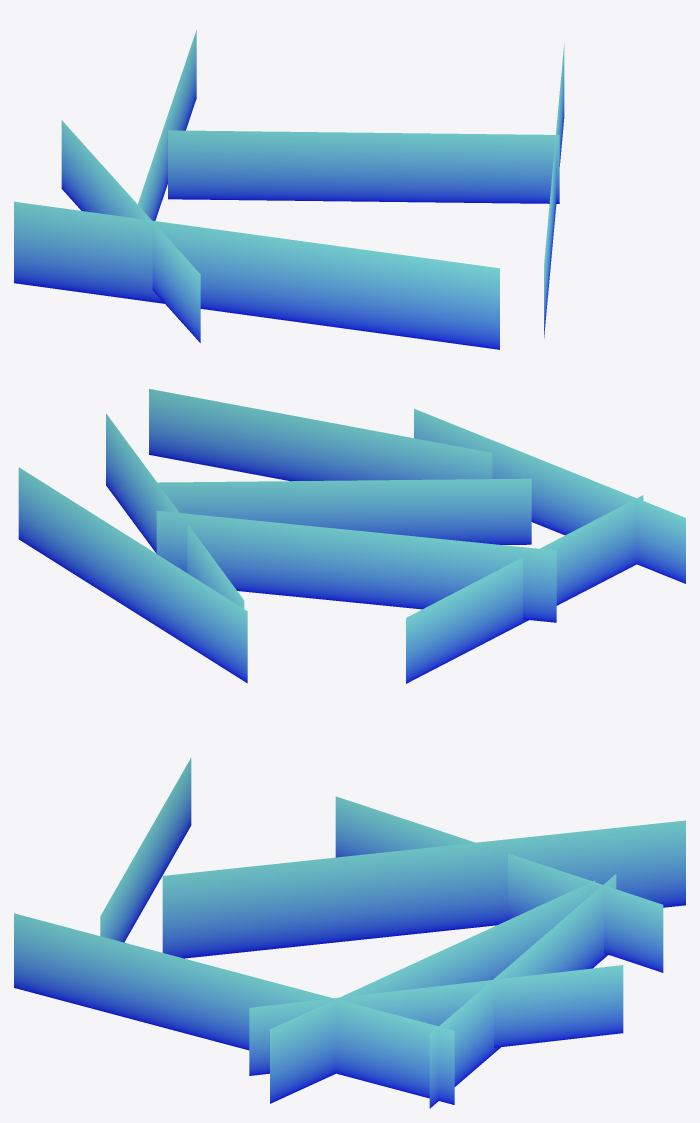
Rendered from SM_Env_Grass_Short_Clump_03.glb.
The picture shows the model from 3 angles, top to bottom: view 1: azimuth 30°, elevation 25°; view 2: azimuth 150°, elevation 25°; view 3: azimuth 270°, elevation 25°; orthographic projection. The views are drawn at different scales.
Visible parts, largest first — view 1: SM_Env_Grass_Short_Clump_03_LOD0; view 2: SM_Env_Grass_Short_Clump_03_LOD0; view 3: SM_Env_Grass_Short_Clump_03_LOD0.
Boxes of the visible parts, x1=… form: SM_Env_Grass_Short_Clump_03_LOD0: x1=14, y1=30, x2=564, y2=349; SM_Env_Grass_Short_Clump_03_LOD0: x1=18, y1=389, x2=685, y2=683; SM_Env_Grass_Short_Clump_03_LOD0: x1=14, y1=758, x2=685, y2=1108.
Size of what is drawn, in the model's own units: 1.72 by 0.2684 by 1.73.
